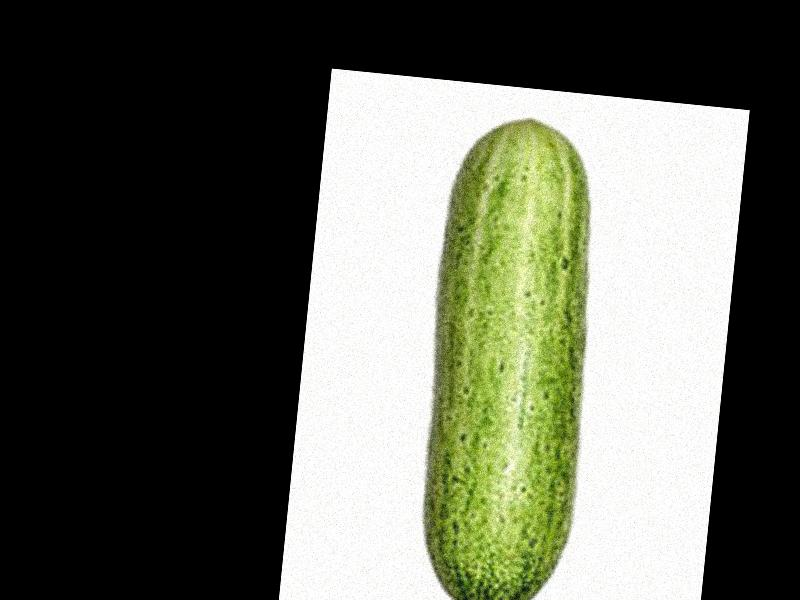Cucumber: (409, 111, 610, 600)
